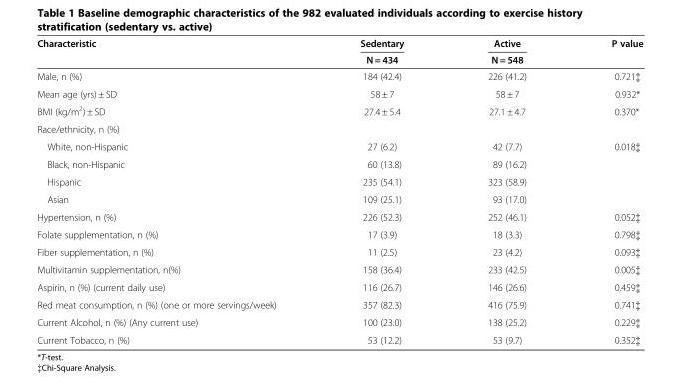table: (36, 37, 642, 346)
table column: (36, 37, 317, 346), (317, 37, 445, 346), (445, 37, 568, 346), (568, 37, 642, 346)
table column header: (36, 37, 642, 67)
table projected row header: (36, 119, 642, 137)
table row: (36, 67, 642, 85), (36, 101, 642, 119), (36, 119, 642, 137), (36, 137, 642, 155), (36, 172, 642, 190), (36, 207, 642, 225), (36, 225, 642, 243), (36, 260, 642, 278), (36, 278, 642, 296), (36, 313, 642, 331), (36, 155, 642, 172), (36, 190, 642, 207), (36, 243, 642, 260), (36, 296, 642, 313), (36, 51, 642, 67), (36, 85, 642, 101), (36, 331, 642, 346), (36, 37, 642, 51)
table spanning cell: (36, 37, 317, 67), (317, 37, 445, 67), (445, 37, 568, 67), (568, 37, 642, 67)
